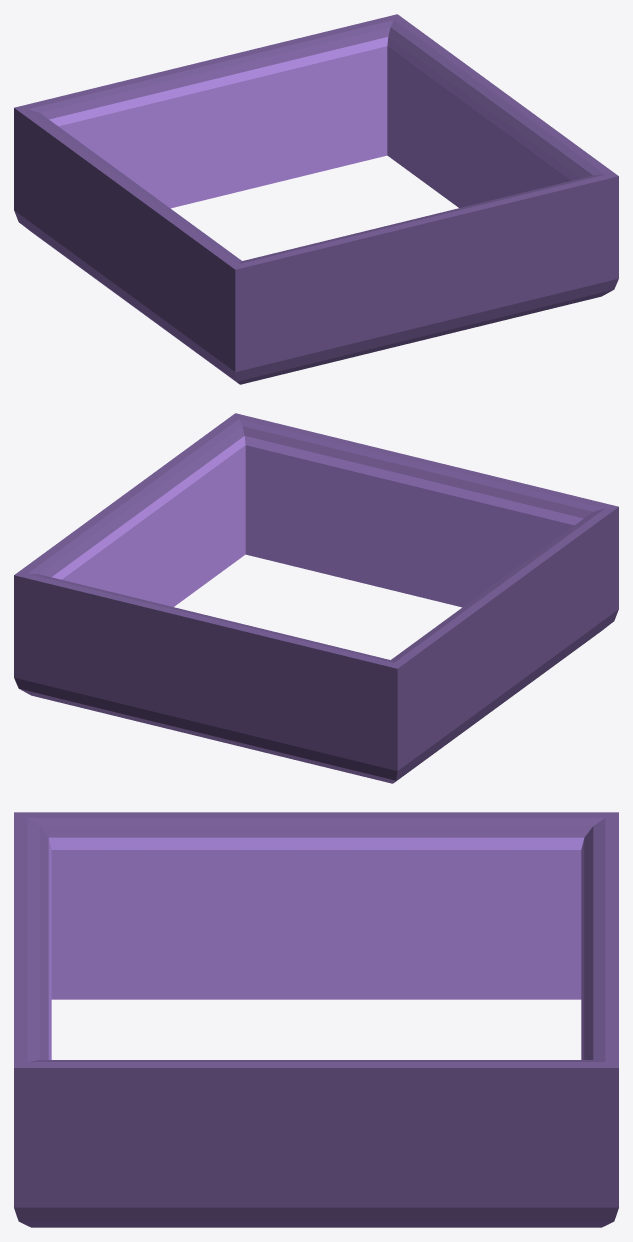
The model's file is Hole 1.fbx.
3 renders of one model, top to bottom at view 1: azimuth 30°, elevation 25°; view 2: azimuth 150°, elevation 25°; view 3: azimuth 270°, elevation 25°, orthographic. The views are drawn at different scales.
Parts seen in each view (by area): view 1: Cube.001; view 2: Cube.001; view 3: Cube.001.
Boxes of the visible parts, x1,y1,x2,y2 form: Cube.001: (14,14,618,384); Cube.001: (14,413,618,783); Cube.001: (14,812,618,1227).
Bounding box in the file's own units: 320 × 100 × 320.
